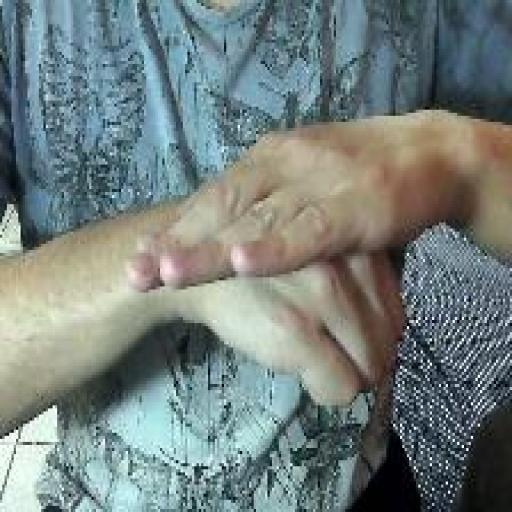Inu -dog-: (122, 125, 413, 414)
